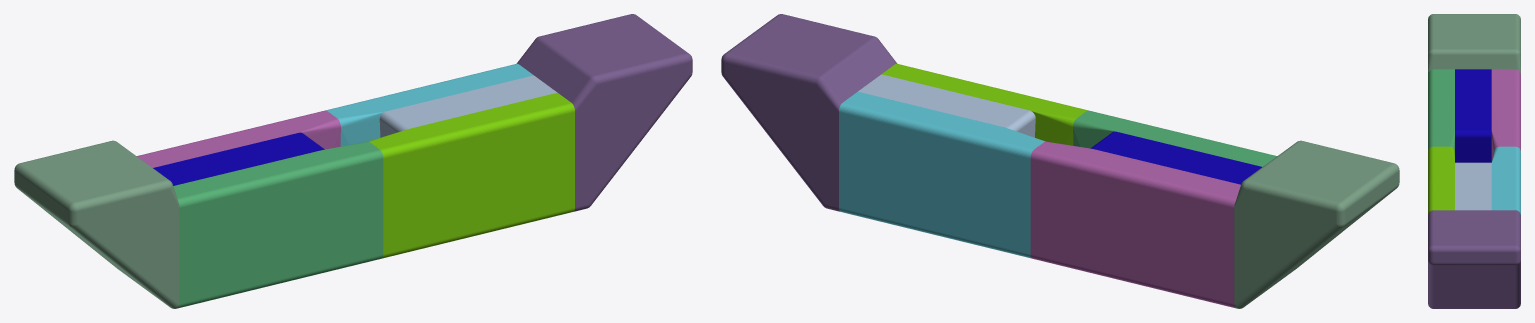
The model's file is 1_canonical.obj.
3 renders of one model, left to right at view 1: azimuth 30°, elevation 25°; view 2: azimuth 150°, elevation 25°; view 3: azimuth 270°, elevation 25°, orthographic. The views are drawn at different scales.
Visible parts, largest first — view 1: geometry_3, geometry_4, geometry_1, geometry_0, geometry_2, geometry_6, geometry_7, geometry_5; view 2: geometry_7, geometry_2, geometry_1, geometry_0, geometry_6, geometry_4, geometry_3, geometry_5; view 3: geometry_1, geometry_0, geometry_5, geometry_7, geometry_3, geometry_2, geometry_6, geometry_4.
Boxes of the visible parts, <box> form: geometry_3: <box>173,141,383,308</box>; geometry_4: <box>368,92,574,258</box>; geometry_1: <box>516,14,692,211</box>; geometry_0: <box>14,140,179,308</box>; geometry_2: <box>326,63,533,146</box>; geometry_6: <box>379,75,556,137</box>; geometry_7: <box>137,110,340,167</box>; geometry_5: <box>153,132,324,185</box>; geometry_7: <box>1030,141,1240,308</box>; geometry_2: <box>839,91,1045,258</box>; geometry_1: <box>721,14,897,211</box>; geometry_0: <box>1234,140,1399,308</box>; geometry_6: <box>858,74,1035,137</box>; geometry_4: <box>882,63,1087,145</box>; geometry_3: <box>1073,110,1276,166</box>; geometry_5: <box>1090,131,1261,184</box>; geometry_1: <box>1428,210,1520,308</box>; geometry_0: <box>1428,14,1520,73</box>; geometry_5: <box>1455,69,1491,162</box>; geometry_7: <box>1491,69,1520,161</box>; geometry_3: <box>1428,69,1454,150</box>; geometry_2: <box>1491,146,1520,214</box>; geometry_6: <box>1455,162,1491,210</box>; geometry_4: <box>1428,146,1454,214</box>.
Size of the model in its own units: 0.0762 by 0.0152 by 0.0127.
